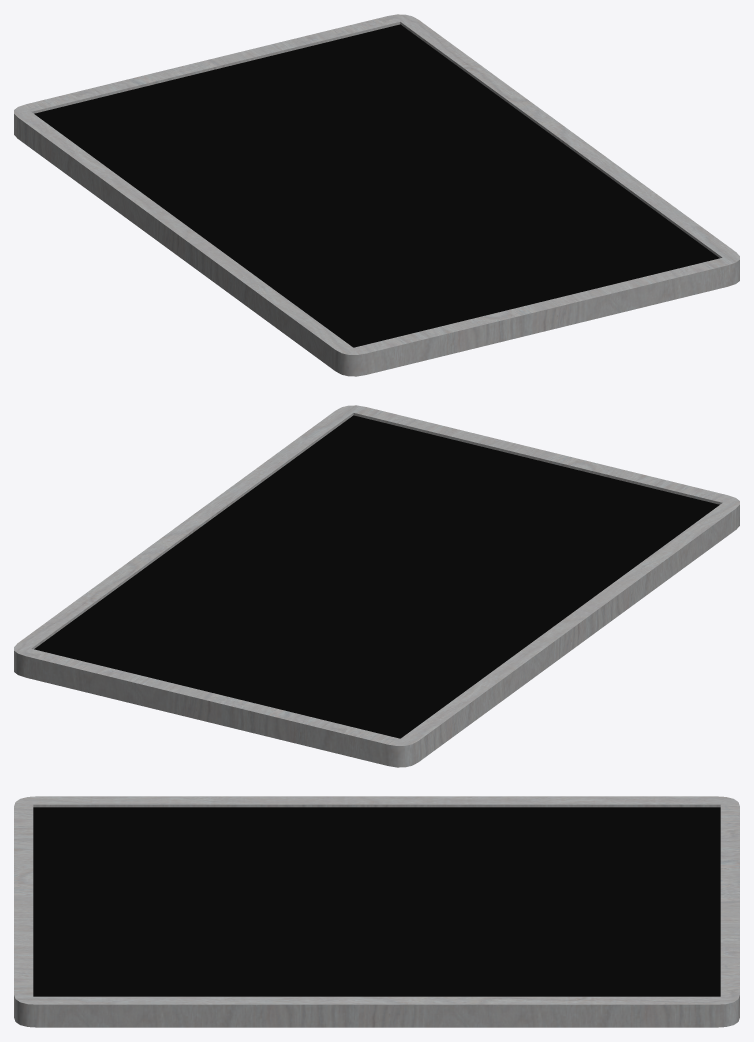
The model's file is picture frame.fbx.
The picture shows the model from 3 angles, top to bottom: view 1: azimuth 30°, elevation 25°; view 2: azimuth 150°, elevation 25°; view 3: azimuth 270°, elevation 25°; orthographic projection. The views are drawn at different scales.
Visible parts, largest first — view 1: Glass, Frame; view 2: Glass, Frame; view 3: Glass, Frame.
Part boxes in pixels (box(x1,y1,x2,y2)): Glass: box(34, 24, 719, 347); Frame: box(14, 14, 739, 376); Glass: box(34, 415, 719, 738); Frame: box(14, 405, 739, 767); Glass: box(33, 807, 720, 996); Frame: box(14, 796, 739, 1027).
Bounding box in the file's own units: 51.44 × 2.63 × 75.71.
Materials: 3 (2 with a texture image).
